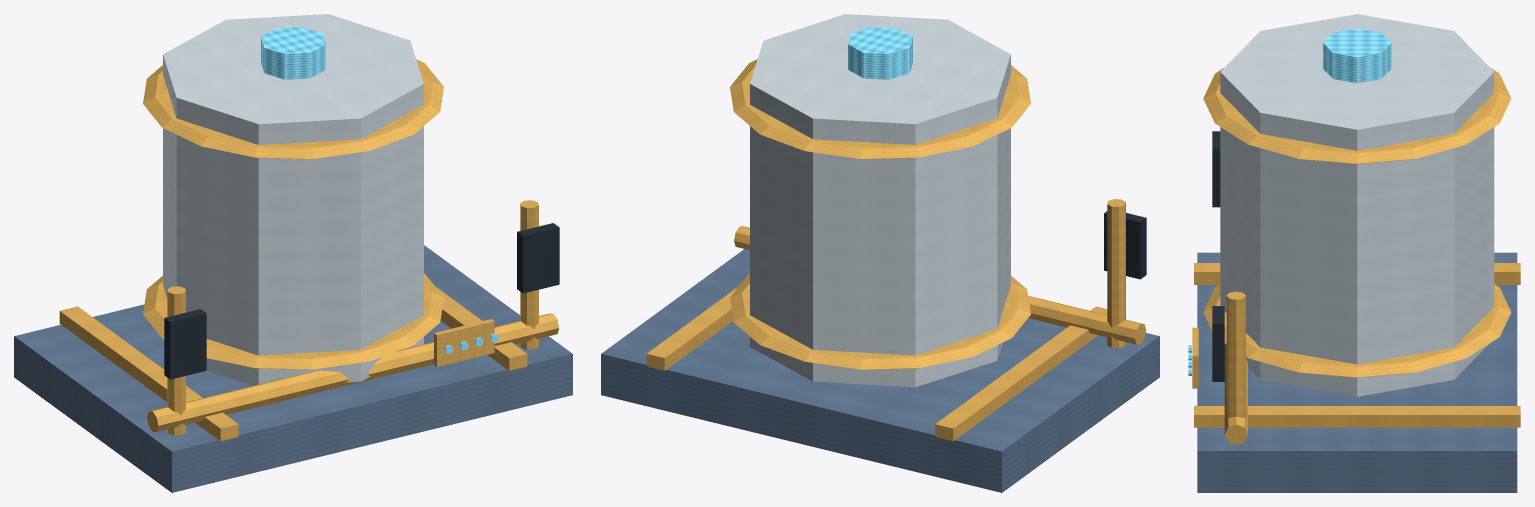
Rendered from atlas100-s057-a02.glb.
The picture shows the model from 3 angles, left to right: view 1: azimuth 30°, elevation 25°; view 2: azimuth 150°, elevation 25°; view 3: azimuth 270°, elevation 25°; orthographic projection.
Parts seen in each view (by area): view 1: atlas100-s057-a02:part-003, atlas100-s057-a02:part-000, atlas100-s057-a02:part-012, atlas100-s057-a02:part-005, atlas100-s057-a02:part-004, atlas100-s057-a02:part-001, atlas100-s057-a02:part-006, atlas100-s057-a02:part-011, atlas100-s057-a02:part-009, atlas100-s057-a02:part-013, atlas100-s057-a02:part-002, atlas100-s057-a02:part-010 (+1 smaller); view 2: atlas100-s057-a02:part-003, atlas100-s057-a02:part-000, atlas100-s057-a02:part-005, atlas100-s057-a02:part-004, atlas100-s057-a02:part-001, atlas100-s057-a02:part-006, atlas100-s057-a02:part-012, atlas100-s057-a02:part-008, atlas100-s057-a02:part-002, atlas100-s057-a02:part-009; view 3: atlas100-s057-a02:part-003, atlas100-s057-a02:part-000, atlas100-s057-a02:part-002, atlas100-s057-a02:part-005, atlas100-s057-a02:part-004, atlas100-s057-a02:part-006, atlas100-s057-a02:part-010, atlas100-s057-a02:part-001, atlas100-s057-a02:part-011, atlas100-s057-a02:part-012, atlas100-s057-a02:part-009, atlas100-s057-a02:part-013.
Part boxes in pixels (x1,y1,x2,y2): atlas100-s057-a02:part-003: (163,14,423,385); atlas100-s057-a02:part-000: (14,245,572,492); atlas100-s057-a02:part-012: (147,313,559,431); atlas100-s057-a02:part-005: (143,59,443,159); atlas100-s057-a02:part-004: (143,273,443,369); atlas100-s057-a02:part-001: (59,306,238,441); atlas100-s057-a02:part-006: (261,27,325,79); atlas100-s057-a02:part-011: (517,223,559,293); atlas100-s057-a02:part-009: (164,309,206,379); atlas100-s057-a02:part-013: (434,319,494,366); atlas100-s057-a02:part-002: (435,286,527,370); atlas100-s057-a02:part-010: (520,200,538,349); atlas100-s057-a02:part-003: (750,14,1010,387); atlas100-s057-a02:part-000: (601,249,1159,492); atlas100-s057-a02:part-005: (730,59,1030,159); atlas100-s057-a02:part-004: (730,273,1030,369); atlas100-s057-a02:part-001: (935,306,1107,441); atlas100-s057-a02:part-006: (848,27,912,79); atlas100-s057-a02:part-012: (734,226,1146,344); atlas100-s057-a02:part-008: (1107,199,1125,348); atlas100-s057-a02:part-002: (646,286,738,370); atlas100-s057-a02:part-009: (1104,211,1146,279); atlas100-s057-a02:part-003: (1220,14,1494,396); atlas100-s057-a02:part-000: (1197,252,1517,492); atlas100-s057-a02:part-002: (1194,406,1520,427); atlas100-s057-a02:part-005: (1203,68,1511,163); atlas100-s057-a02:part-004: (1203,284,1511,377); atlas100-s057-a02:part-006: (1323,28,1391,83); atlas100-s057-a02:part-010: (1226,291,1245,418); atlas100-s057-a02:part-001: (1194,263,1520,284); atlas100-s057-a02:part-011: (1212,306,1224,381); atlas100-s057-a02:part-012: (1224,343,1247,445); atlas100-s057-a02:part-009: (1212,131,1220,207); atlas100-s057-a02:part-013: (1192,327,1198,388).
Bounding box in the file's own units: 2.64 × 2.18 × 1.87.
5 materials, 5 textured.
